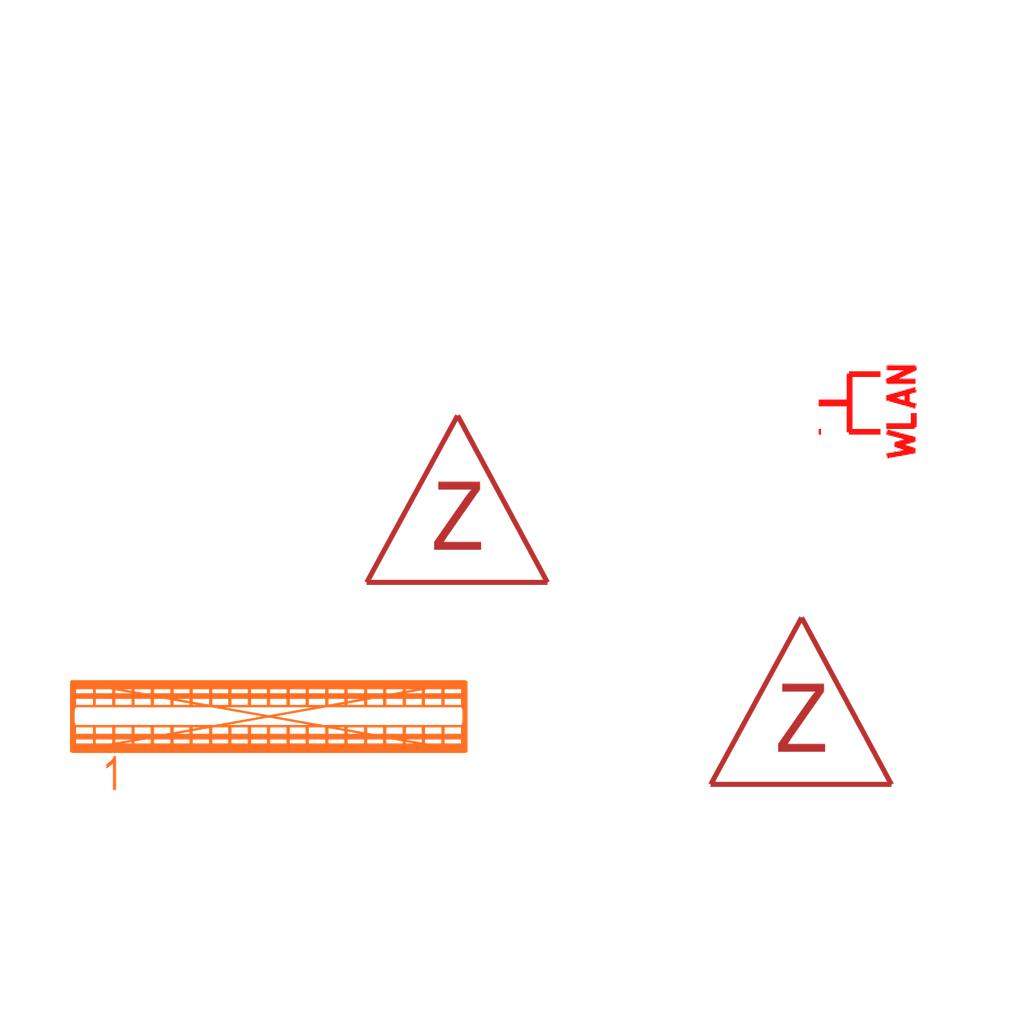Buero_Pendelleuchten_LED: (63, 670, 476, 800)
WLAN: (814, 360, 919, 464)
Zimmersignalleuchte: (357, 400, 553, 600), (701, 602, 897, 802)
